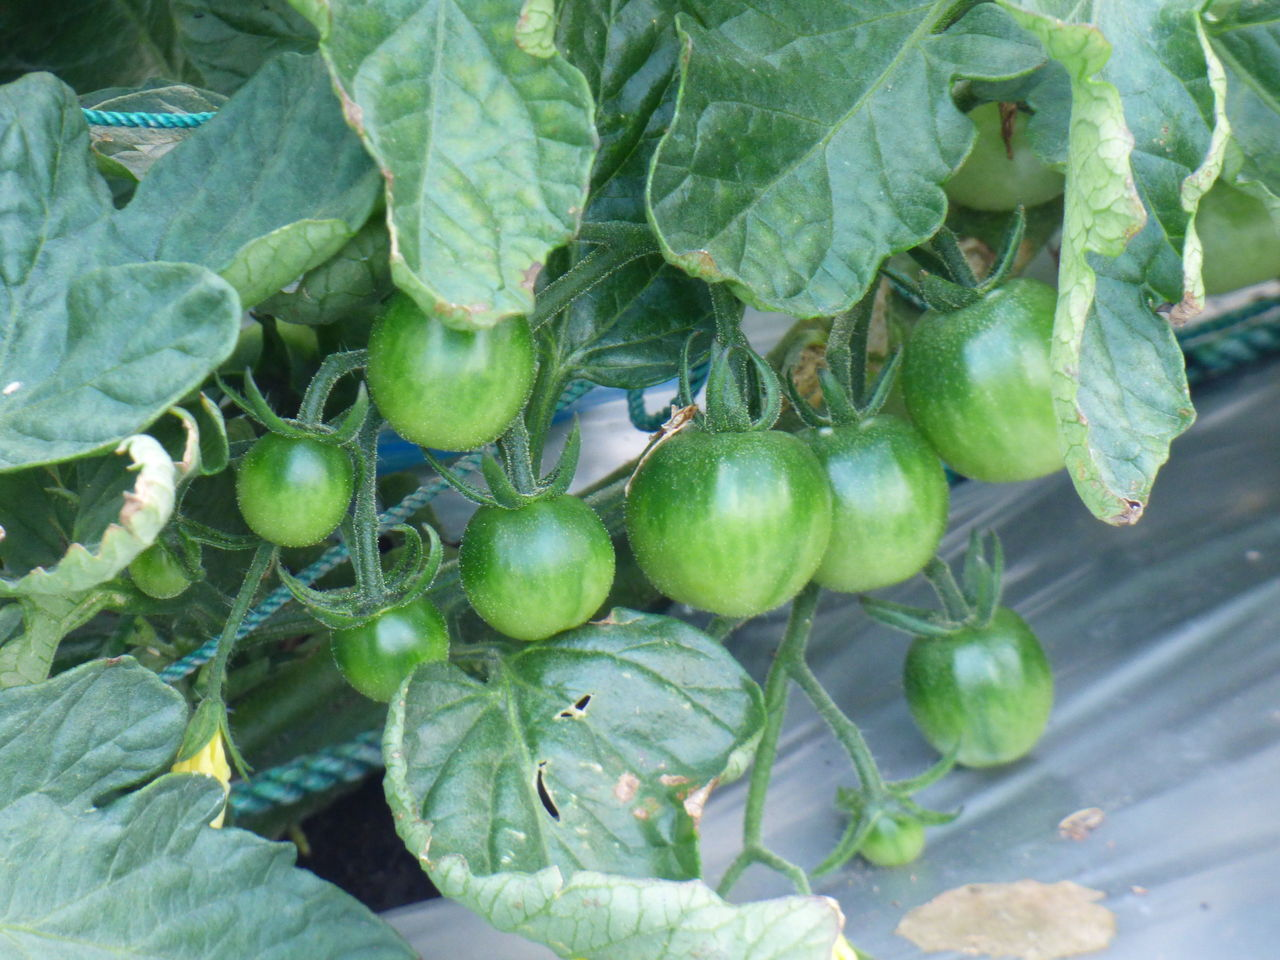stems: (345, 433, 393, 603), (698, 281, 746, 428), (294, 347, 366, 430), (819, 305, 869, 422), (497, 410, 539, 498), (933, 231, 983, 299), (922, 560, 973, 625)
tomato: (902, 280, 1104, 484), (623, 426, 829, 618), (368, 281, 538, 449), (796, 414, 944, 593), (904, 601, 1055, 769), (455, 498, 618, 647), (237, 424, 354, 545), (334, 591, 447, 702), (125, 523, 202, 599)
